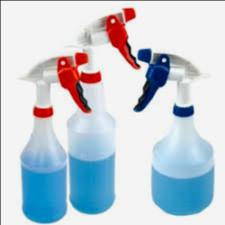Plastic: (8, 50, 95, 223), (135, 47, 216, 217)
